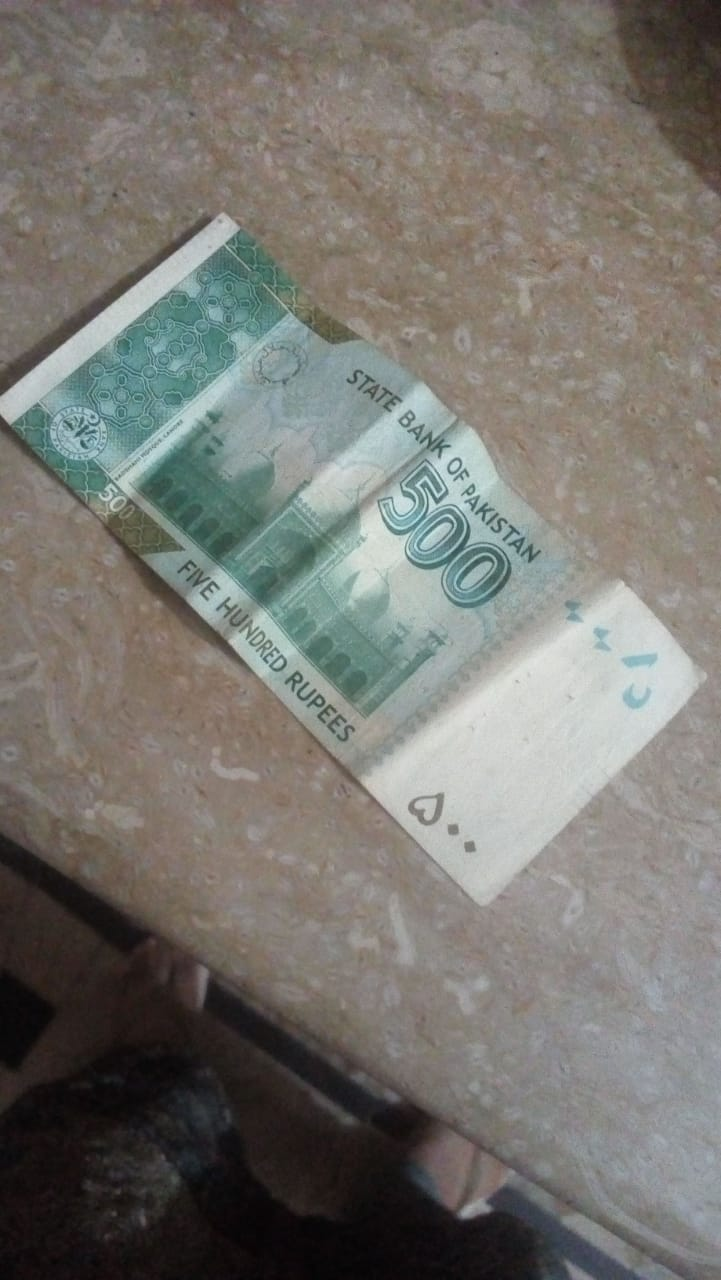500 rupee: (4, 177, 704, 948)
